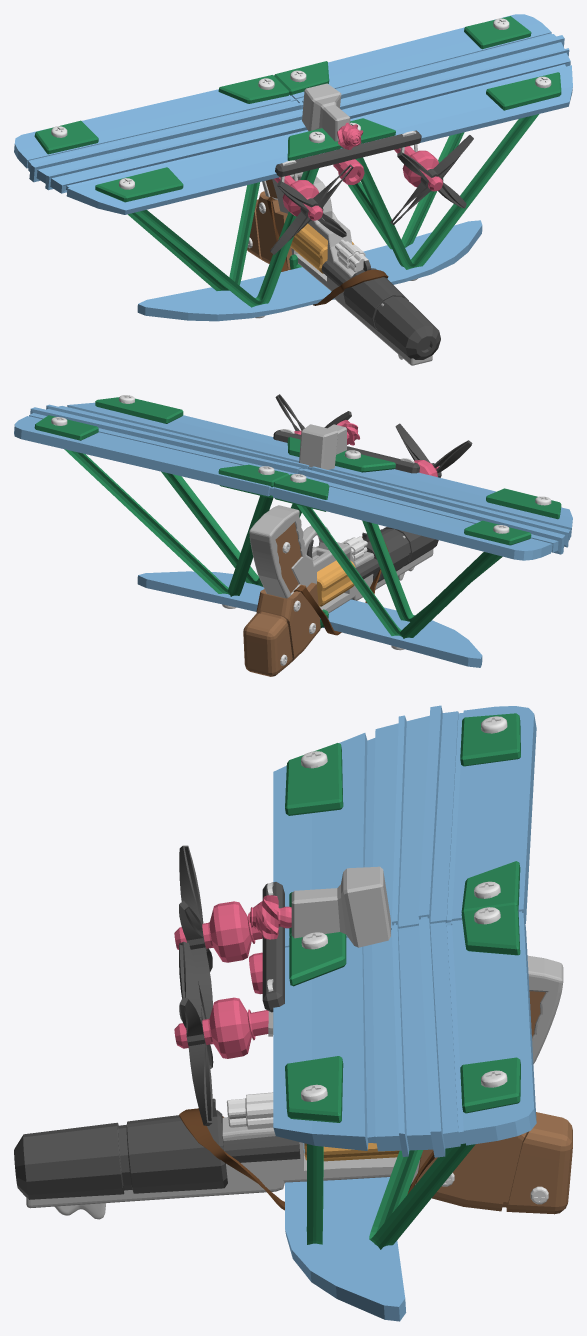
3 renders of one model, top to bottom at view 1: azimuth 30°, elevation 25°; view 2: azimuth 150°, elevation 25°; view 3: azimuth 270°, elevation 25°, orthographic. The views are drawn at different scales.
Parts seen in each view (by area): view 1: Plane.004, Cube.006, Plane.005, Plane.003, Cylinder.002, Cylinder.012, Plane, Cube.004, Cube.003, Cylinder.011, Plane.002, Cylinder.008 (+5 smaller); view 2: Plane.004, Cube.006, Plane.005, Plane.003, Plane, Plane.002, Cube.003, Cylinder.002, Cylinder.012, Cylinder.001, Plane.001, Cylinder.008 (+2 smaller); view 3: Plane.004, Plane.005, Cylinder.002, Plane.003, Plane.002, Plane, Cylinder.012, Cube.006, Cube.003, Cylinder.011, Cylinder.008, Cube.004 (+5 smaller).
Part boxes in pixels (left/top/right/bottom): Plane.004: left=14, top=14, right=572, bottom=214; Cube.006: left=128, top=114, right=539, bottom=307; Plane.005: left=34, top=16, right=561, bottom=202; Plane.003: left=137, top=220, right=482, bottom=321; Cylinder.002: left=343, top=260, right=440, bottom=359; Cylinder.012: left=270, top=135, right=473, bottom=254; Plane: left=262, top=172, right=432, bottom=365; Cube.004: left=275, top=130, right=421, bottom=177; Cube.003: left=302, top=83, right=350, bottom=141; Cylinder.011: left=274, top=146, right=442, bottom=220; Plane.002: left=247, top=191, right=291, bottom=269; Cylinder.008: left=51, top=18, right=551, bottom=189; Plane.004: left=14, top=402, right=572, bottom=560; Cube.006: left=64, top=449, right=502, bottom=638; Plane.005: left=34, top=397, right=561, bottom=545; Plane.003: left=137, top=571, right=482, bottom=667; Plane: left=249, top=505, right=433, bottom=618; Plane.002: left=243, top=582, right=320, bottom=676; Cube.003: left=299, top=424, right=346, bottom=469; Cylinder.002: left=362, top=527, right=438, bottom=582; Cylinder.012: left=275, top=394, right=472, bottom=477; Cylinder.001: left=317, top=560, right=355, bottom=606; Plane.001: left=275, top=522, right=301, bottom=593; Cylinder.008: left=51, top=395, right=551, bottom=533; Plane.004: left=273, top=705, right=536, bottom=1157; Plane.005: left=285, top=713, right=520, bottom=1122; Cylinder.002: left=14, top=1098, right=227, bottom=1199; Plane.003: left=285, top=1143, right=406, bottom=1321; Plane.002: left=416, top=1112, right=572, bottom=1214; Plane: left=26, top=955, right=563, bottom=1208; Cylinder.012: left=179, top=845, right=213, bottom=1125; Cube.006: left=306, top=1143, right=475, bottom=1249; Cube.003: left=291, top=866, right=390, bottom=947; Cylinder.011: left=174, top=901, right=268, bottom=1058; Cylinder.008: left=301, top=716, right=507, bottom=1101; Cube.004: left=262, top=882, right=284, bottom=1012.
Size of the model in its own units: 6.74 by 2.55 by 3.74.
